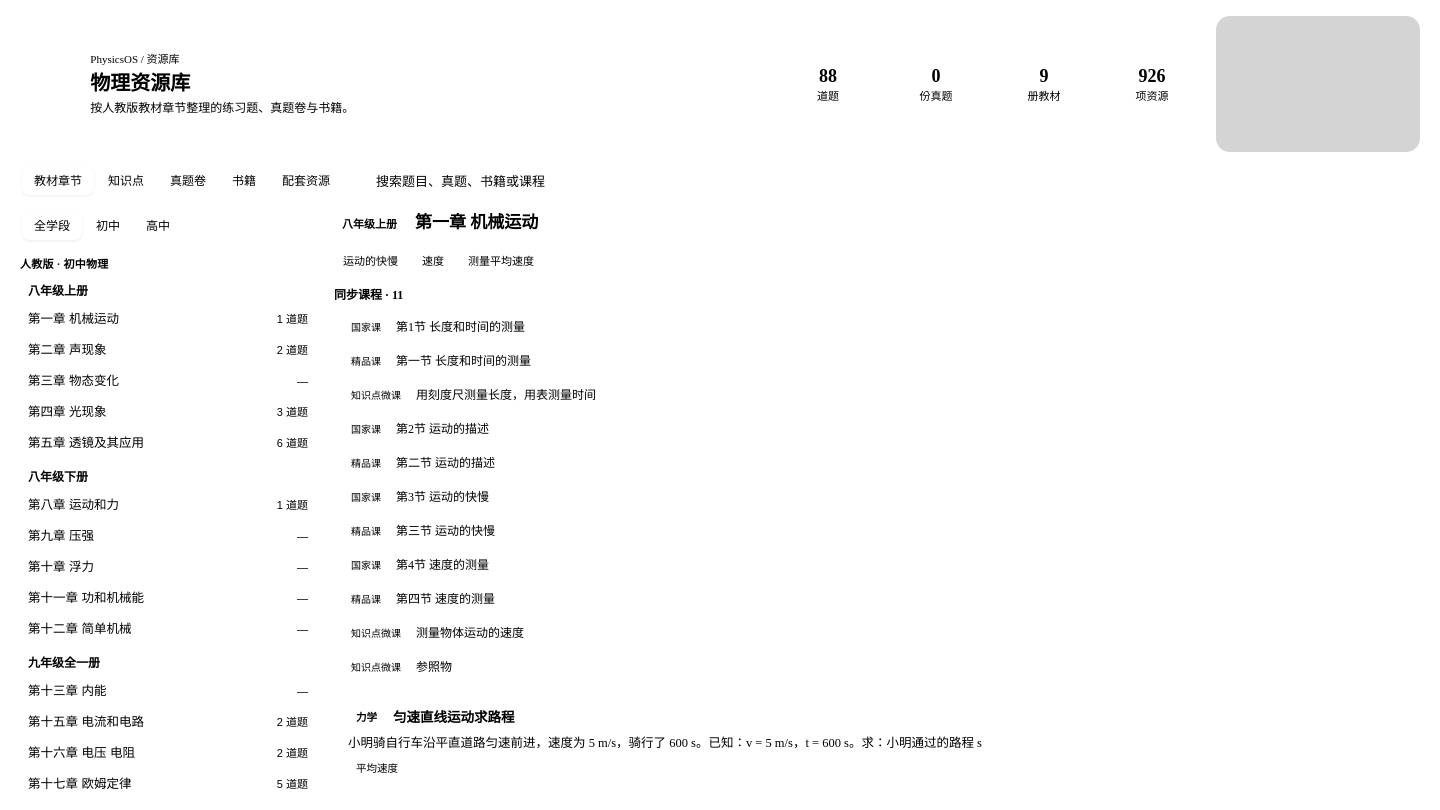
Test: LibraryWorkspace 真题卷库 › sorts featured first, then newest year
Click the tab "真题卷": (188, 181) 158,167 -> 218,195
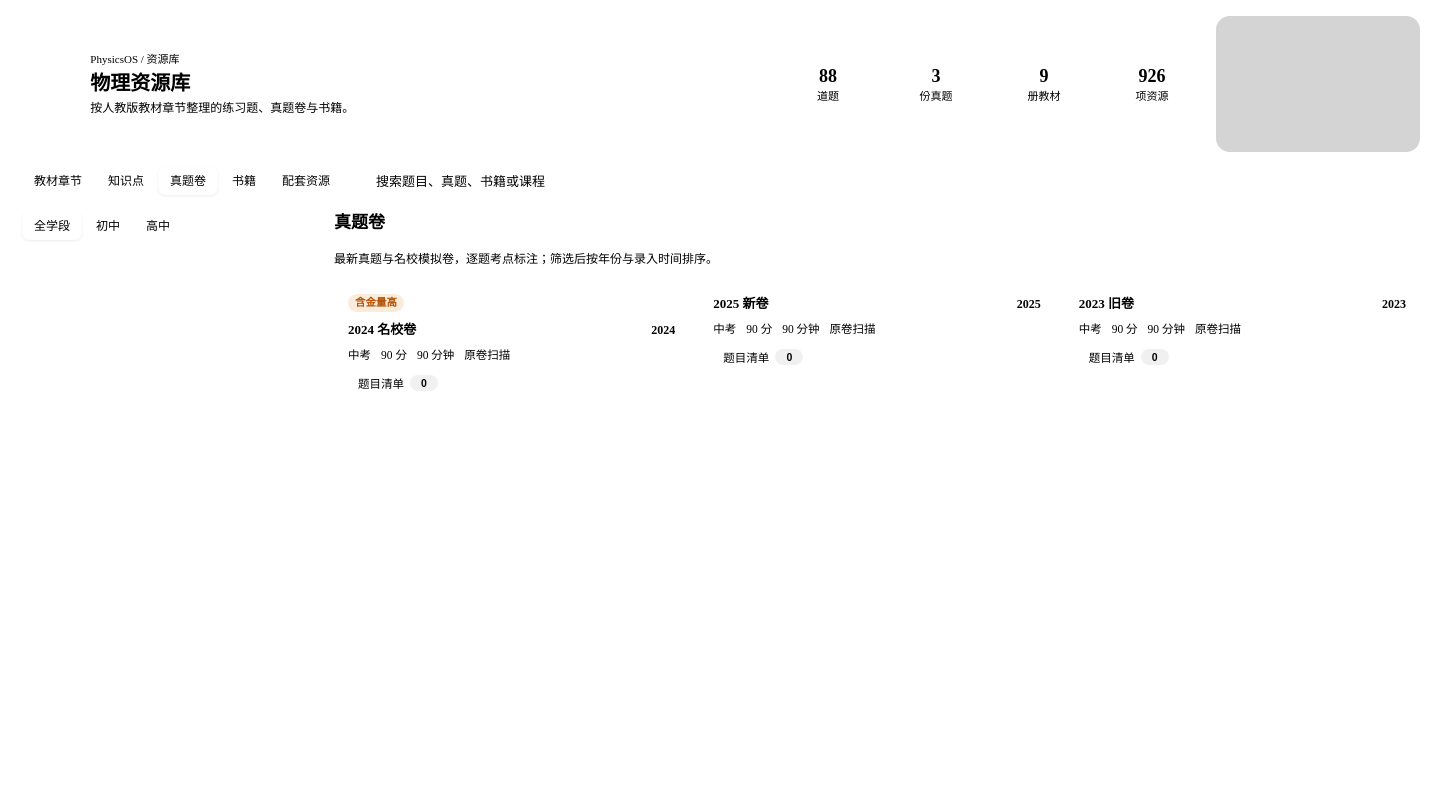
Check: the text "最新真题与名校模拟卷，逐题考点标注；筛选后按年份与录入时间排序。" is shown, box 334,252 -> 718,266
Check: the text "2025 新卷" is shown, box 713,294 -> 769,313
